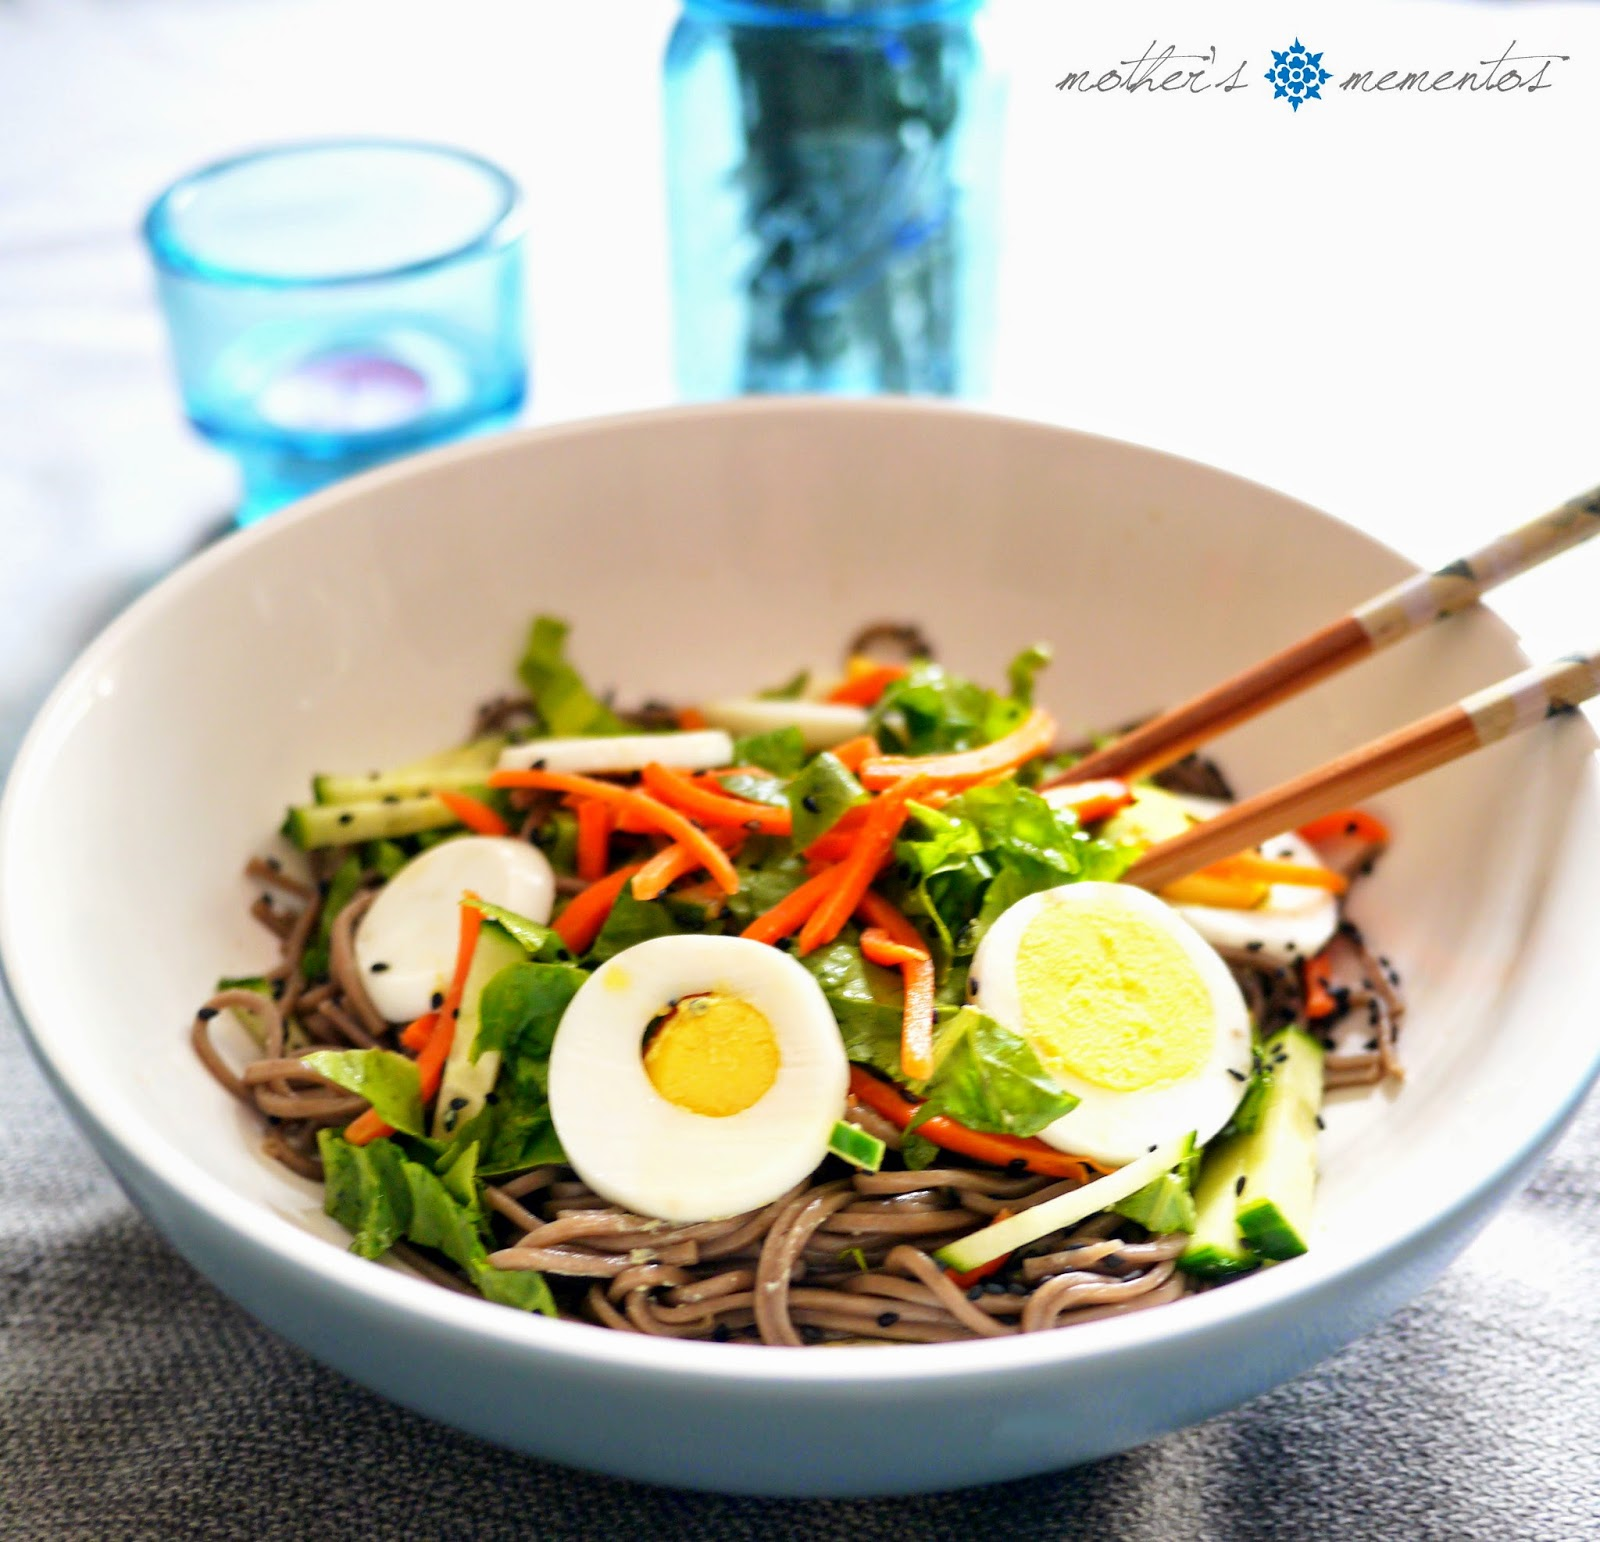Soba: (274, 892, 1256, 1365)
